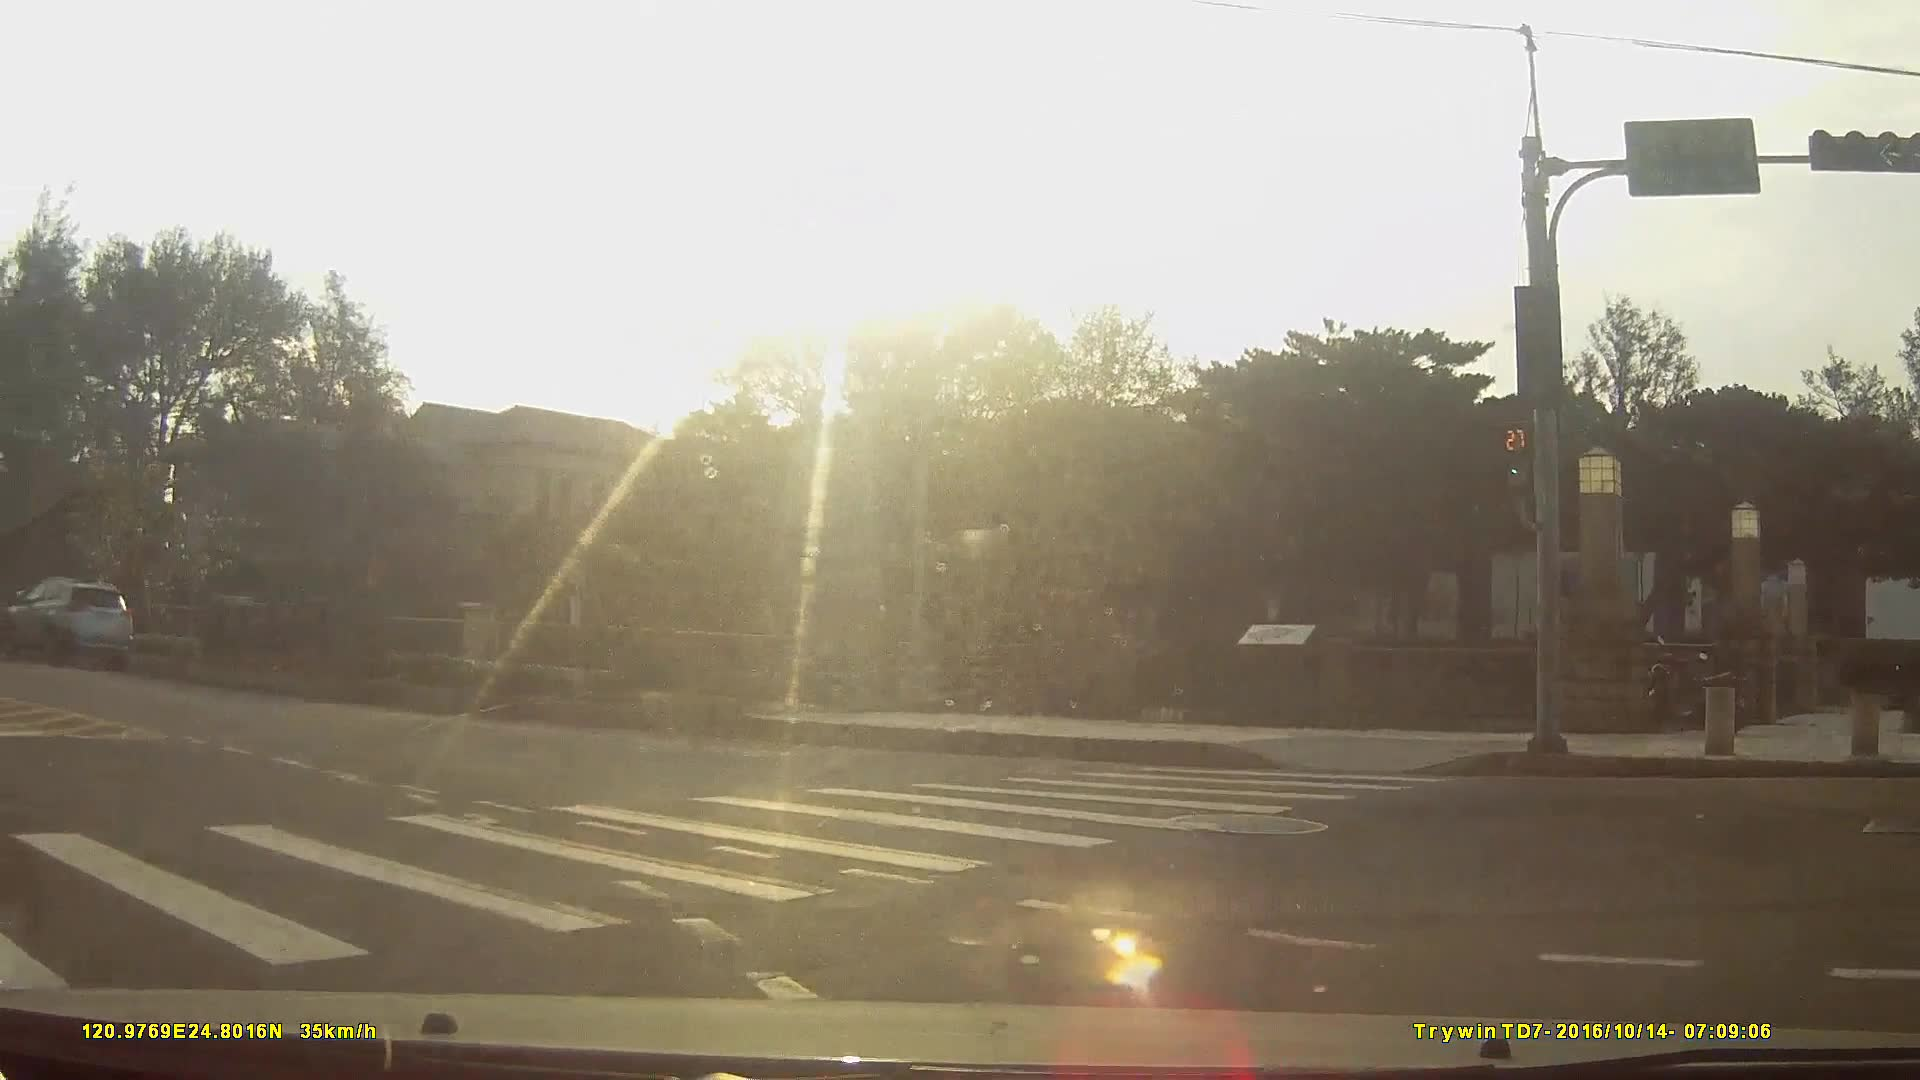vehicle: (7, 574, 132, 665)
